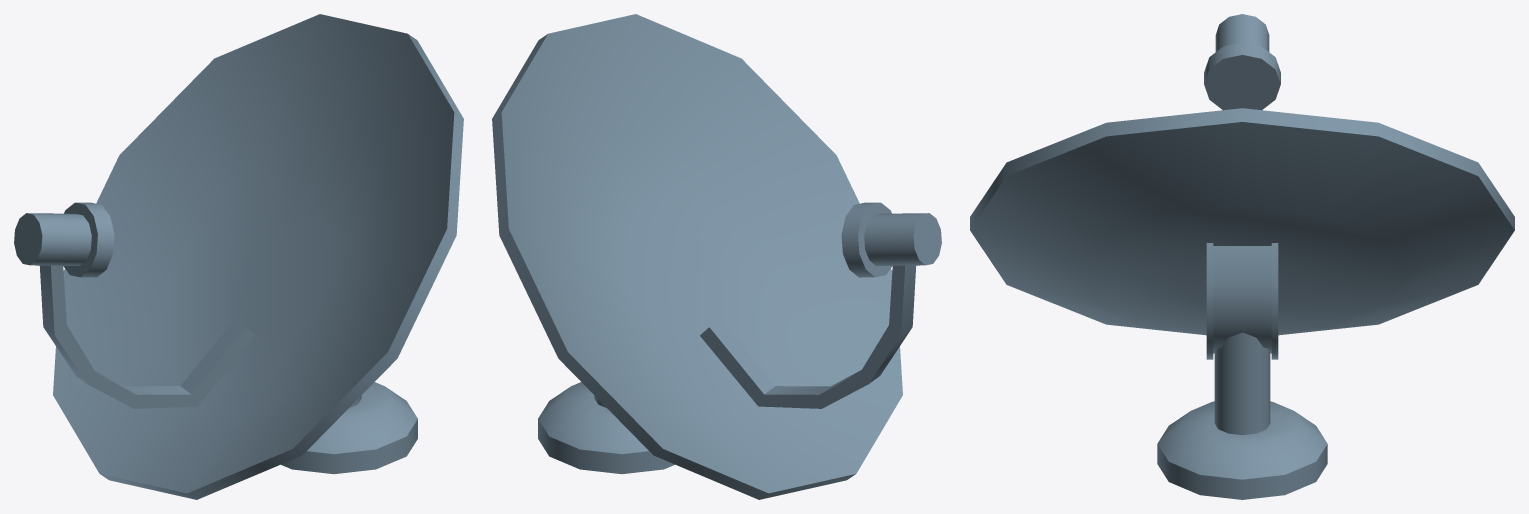
File: Antenna.fbx
3 renders of one model, left to right at view 1: azimuth 30°, elevation 25°; view 2: azimuth 150°, elevation 25°; view 3: azimuth 270°, elevation 25°, orthographic.
Visible parts, largest first — view 1: Antenna; view 2: Antenna; view 3: Antenna.
Boxes of the visible parts, x1,y1,x2,y2 form: Antenna: (14,14,463,499); Antenna: (492,14,941,499); Antenna: (970,14,1514,499).
Size of the model in its own units: 7.22 by 6.76 by 8.51.
